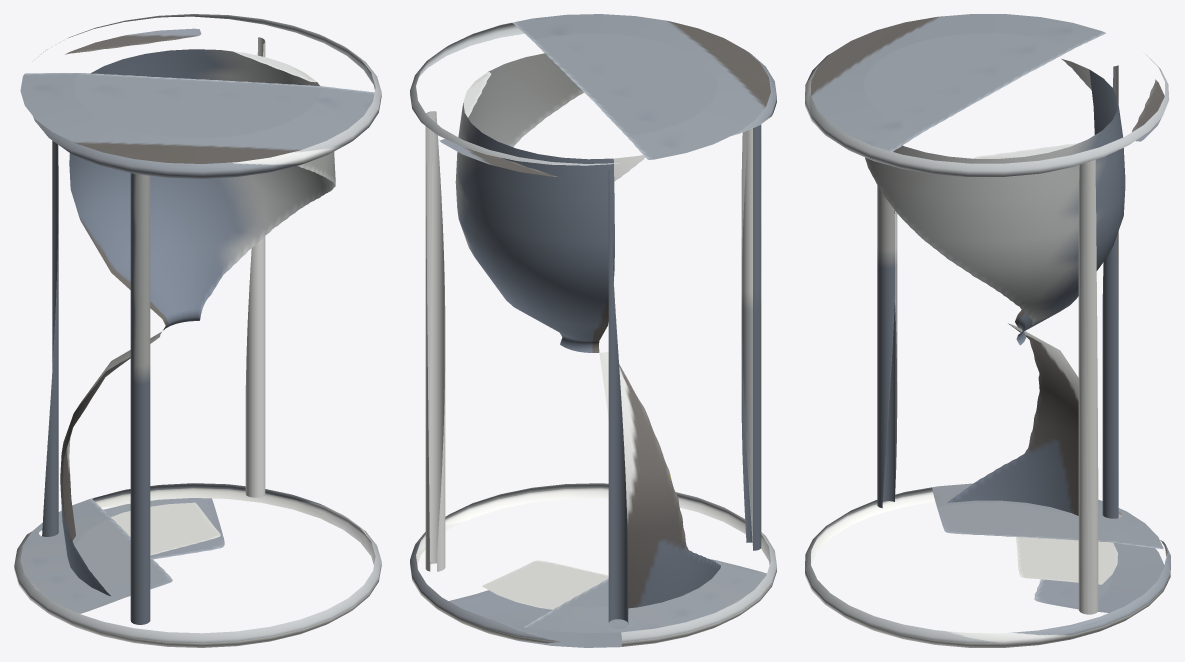
File: StopWatch2.fbx
3 renders of one model, left to right at view 1: azimuth 30°, elevation 25°; view 2: azimuth 150°, elevation 25°; view 3: azimuth 270°, elevation 25°, orthographic.
Visible parts, largest first — view 1: Cylinder.001; view 2: Cylinder.001; view 3: Cylinder.001.
Boxes of the visible parts, box(x1,y1,x2,y2) form: Cylinder.001: box(14, 14, 381, 647); Cylinder.001: box(410, 14, 776, 647); Cylinder.001: box(805, 14, 1170, 647).
Bounding box in the file's own units: 199 × 295 × 199.
